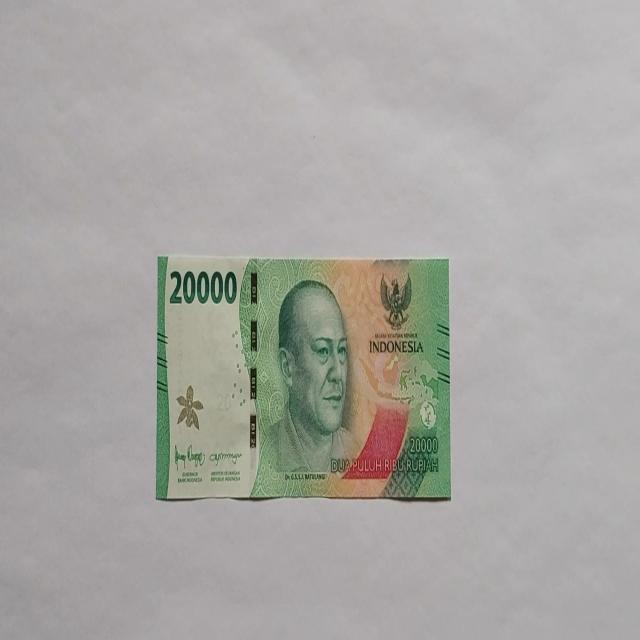dua puluh ribu rupiah: (155, 252, 451, 502), (261, 276, 361, 484)
